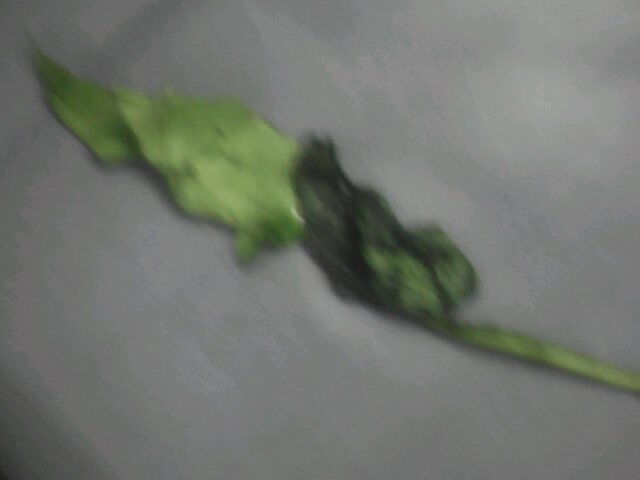yellow: (51, 62, 520, 346)
